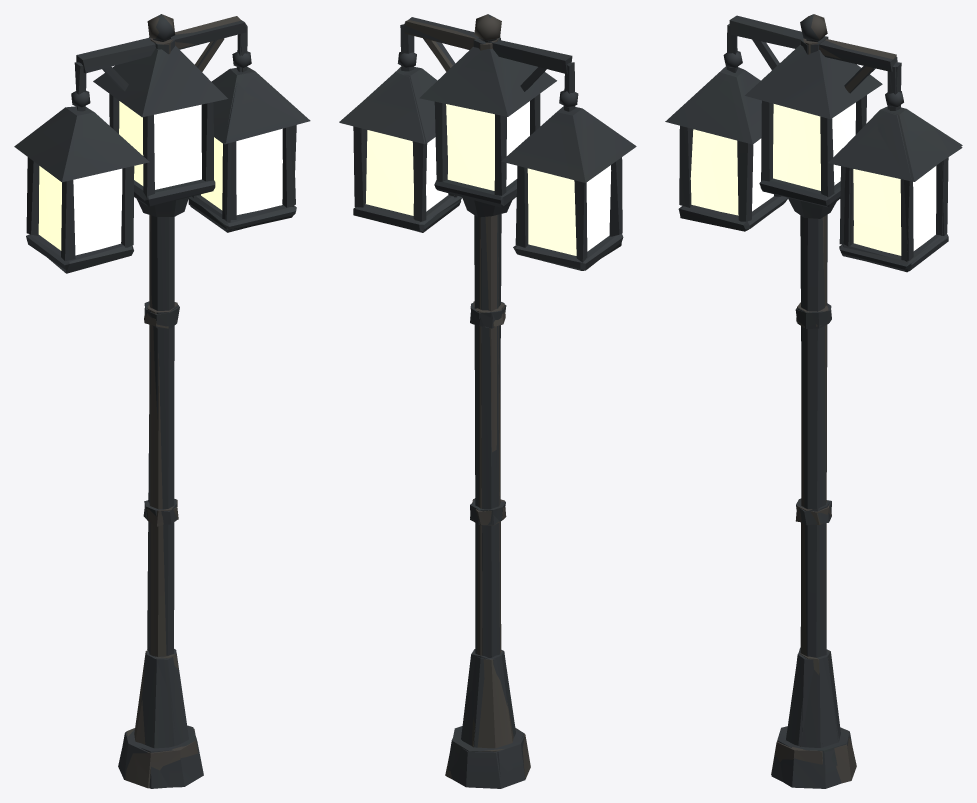
File: lamp.glb
3 renders of one model, left to right at view 1: azimuth 30°, elevation 25°; view 2: azimuth 150°, elevation 25°; view 3: azimuth 330°, elevation 25°, orthographic.
Parts seen in each view (by area): view 1: lamp.v2.mesh, lamp.v0.mesh, lamp.v1.mesh; view 2: lamp.v2.mesh, lamp.v0.mesh, lamp.v1.mesh; view 3: lamp.v2.mesh, lamp.v0.mesh, lamp.v1.mesh.
Part boxes in pixels (x1,y1,x2,y2): lamp.v2.mesh: (14, 14, 307, 787); lamp.v0.mesh: (93, 37, 227, 788); lamp.v1.mesh: (125, 14, 310, 788); lamp.v2.mesh: (339, 14, 636, 788); lamp.v0.mesh: (419, 37, 556, 776); lamp.v1.mesh: (339, 14, 530, 779); lamp.v2.mesh: (665, 14, 962, 788); lamp.v0.mesh: (745, 37, 882, 781); lamp.v1.mesh: (771, 14, 962, 783).
Bounding box in the file's own units: 0.9273 × 2.69 × 0.3277.
